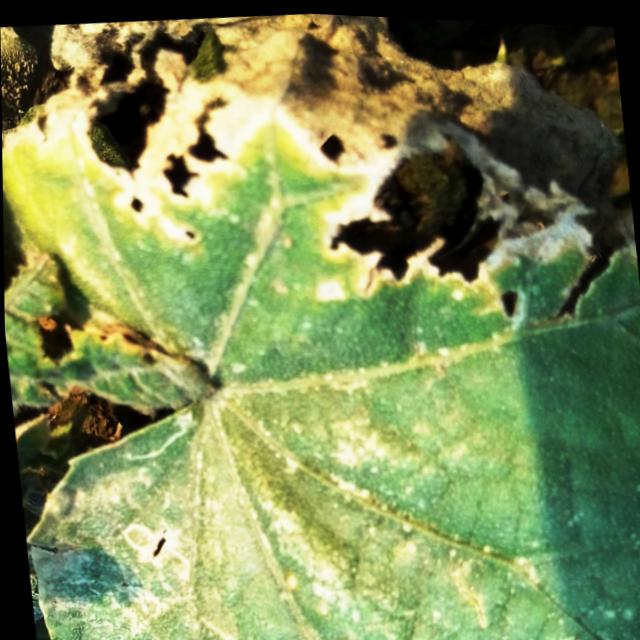Anthracnose: (66, 21, 636, 330)
